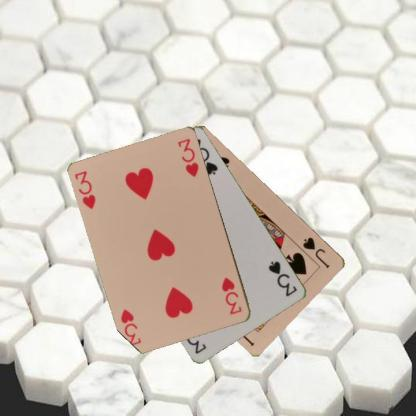3h: (72, 168, 98, 211), (219, 274, 243, 316)
3s: (266, 258, 299, 298)
Js: (301, 234, 331, 270)
